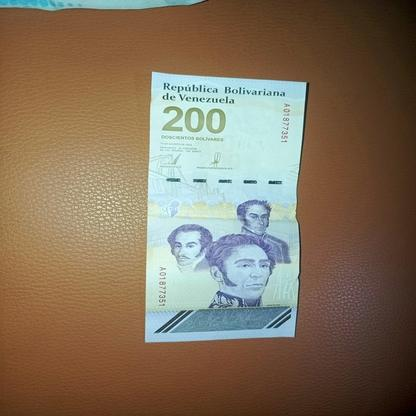two_hundred-front-vef: (144, 72, 307, 344)
